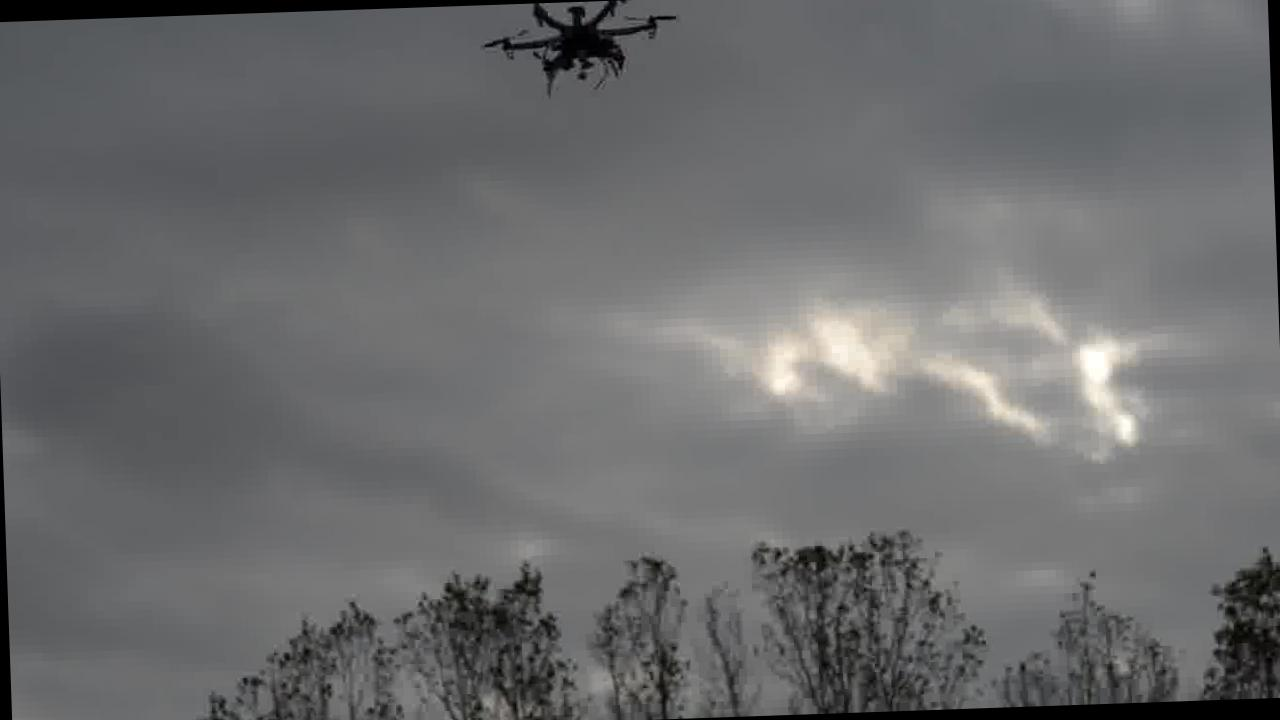drone: (481, 0, 678, 101)
